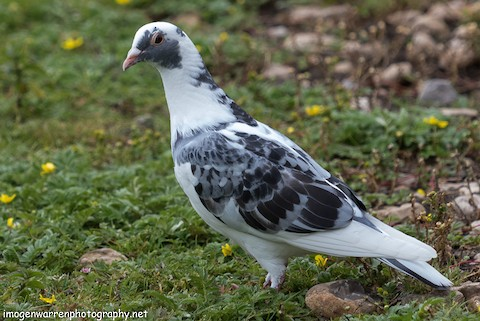pigeon: (118, 16, 460, 295)
